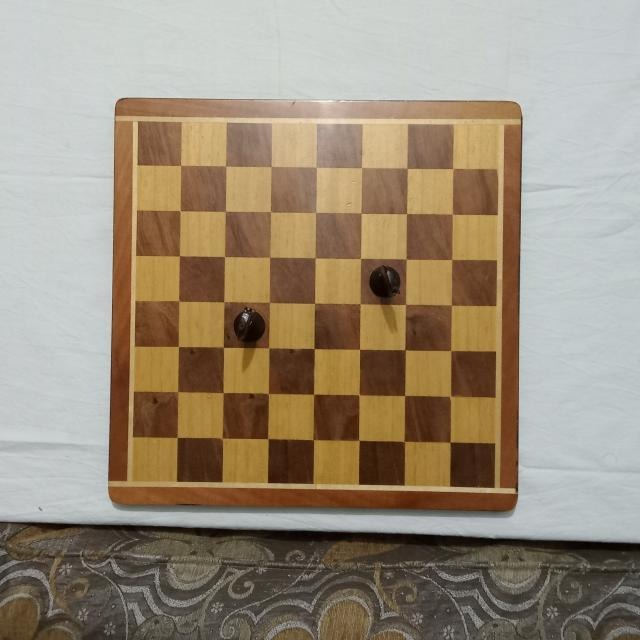black-knight: (232, 305, 268, 343), (367, 262, 403, 298)
